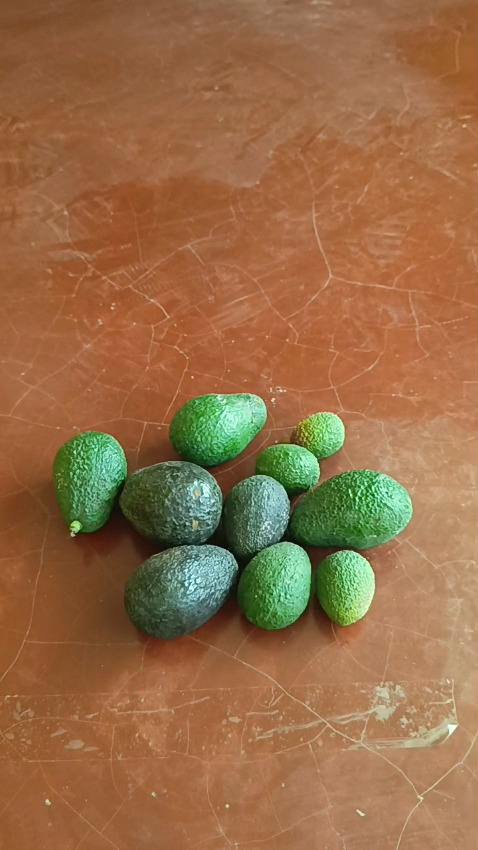Primera: (125, 545, 238, 639), (289, 470, 412, 549), (119, 460, 224, 546), (53, 431, 129, 533), (169, 392, 266, 466)
Segunda: (237, 541, 312, 629), (220, 475, 291, 559)
Tercera: (314, 549, 375, 626), (254, 443, 320, 497), (291, 412, 346, 461)
